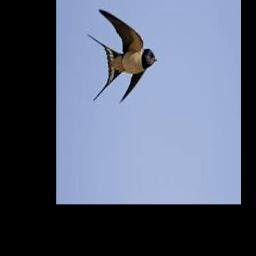Swallow: (87, 8, 157, 102)
